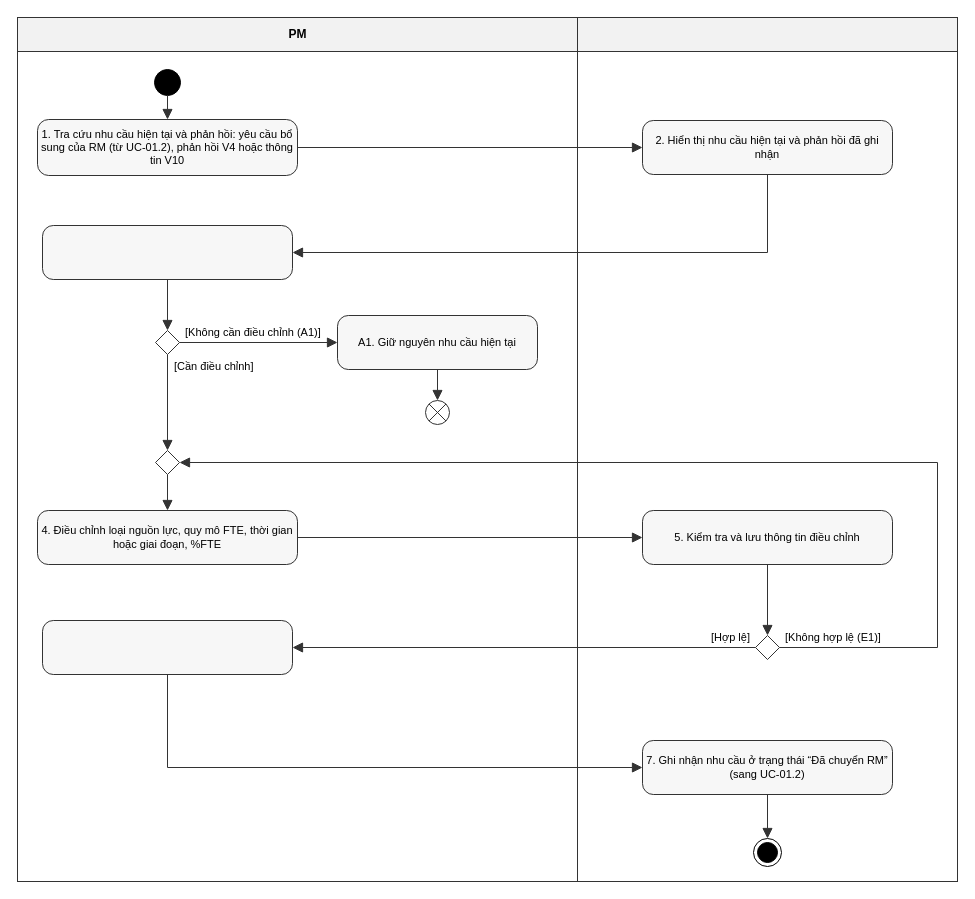
The diagram is 975 pixels wide and 899 high, and some of its shapes have lost their labels. Each missing label, with the centre of its shape:
"3. Xem xét phản hồi, xác định nội dung cần điều chỉnh" goes at (167,252).
"6. Gửi lại nhu cầu cho RM xem xét" goes at (167,647).
"Hệ thống" goes at (767,34).
